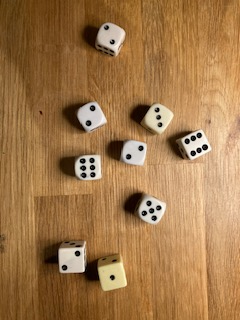five: (134, 192, 167, 226)
one: (96, 252, 129, 292)
six: (174, 128, 213, 163)
three: (140, 102, 174, 134)
two: (74, 100, 109, 133), (93, 22, 126, 56), (57, 240, 87, 275), (119, 138, 148, 166)
